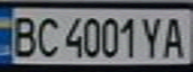0: (81, 13, 103, 60), (100, 15, 121, 58)
1: (118, 14, 142, 58)
4: (60, 14, 84, 58)
A: (160, 14, 190, 58)
B: (6, 12, 39, 59)
C: (33, 14, 60, 58)
Y: (139, 12, 166, 60)
